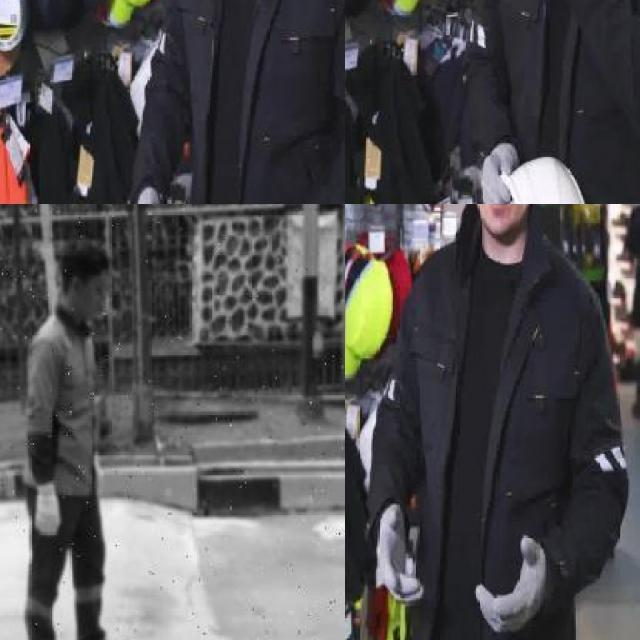apron: (474, 538, 552, 632), (370, 498, 426, 604), (31, 472, 66, 540), (478, 138, 513, 204)
